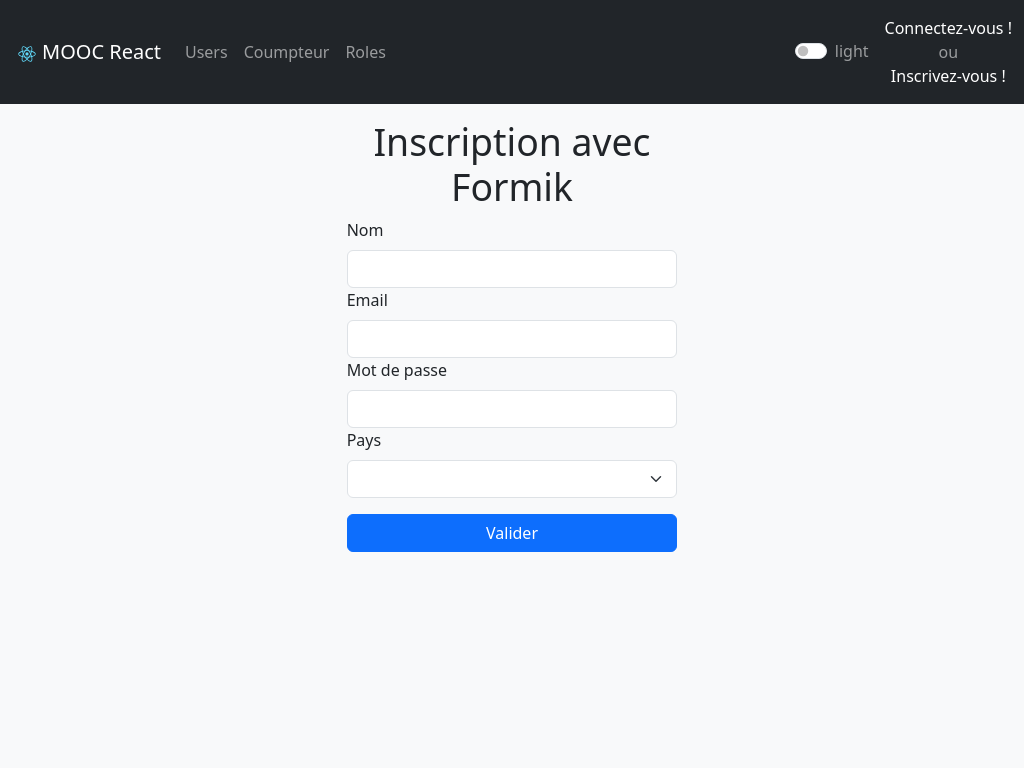
Test: Inscription › devrait afficher une erreur si email invalide
The image size is (1024, 768).
Type "TestName" into the field with id "name" at (513, 269), box [347,250,678,288]
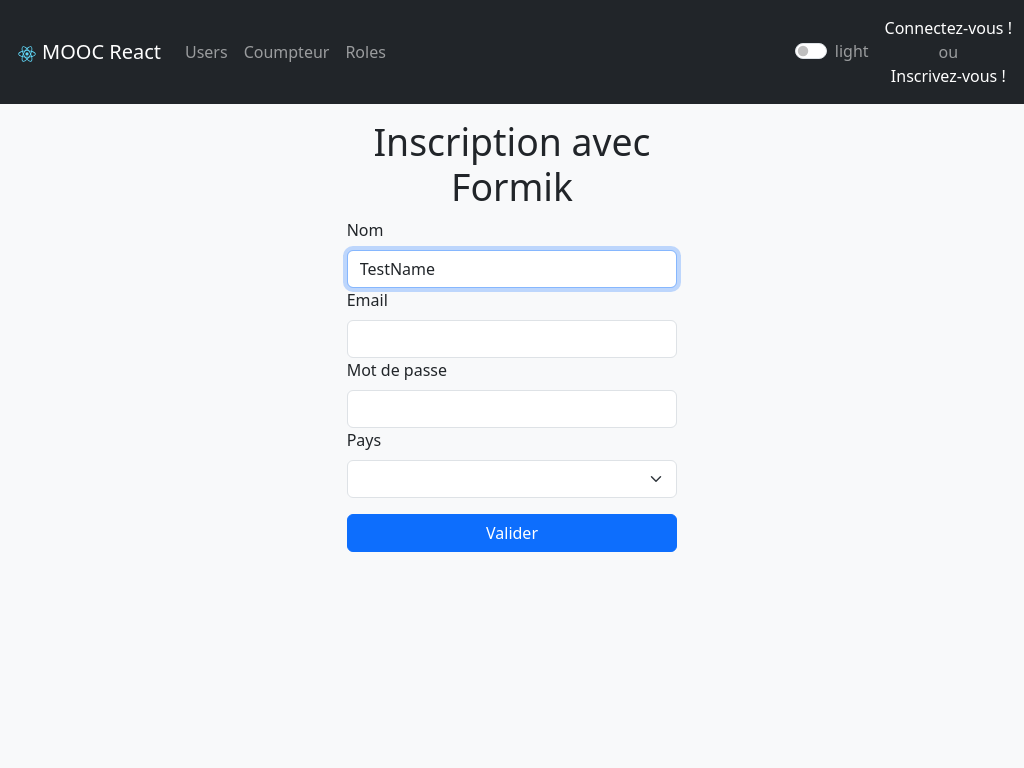
Type "test" into the field with id "email" at (513, 339), box [347,320,678,358]
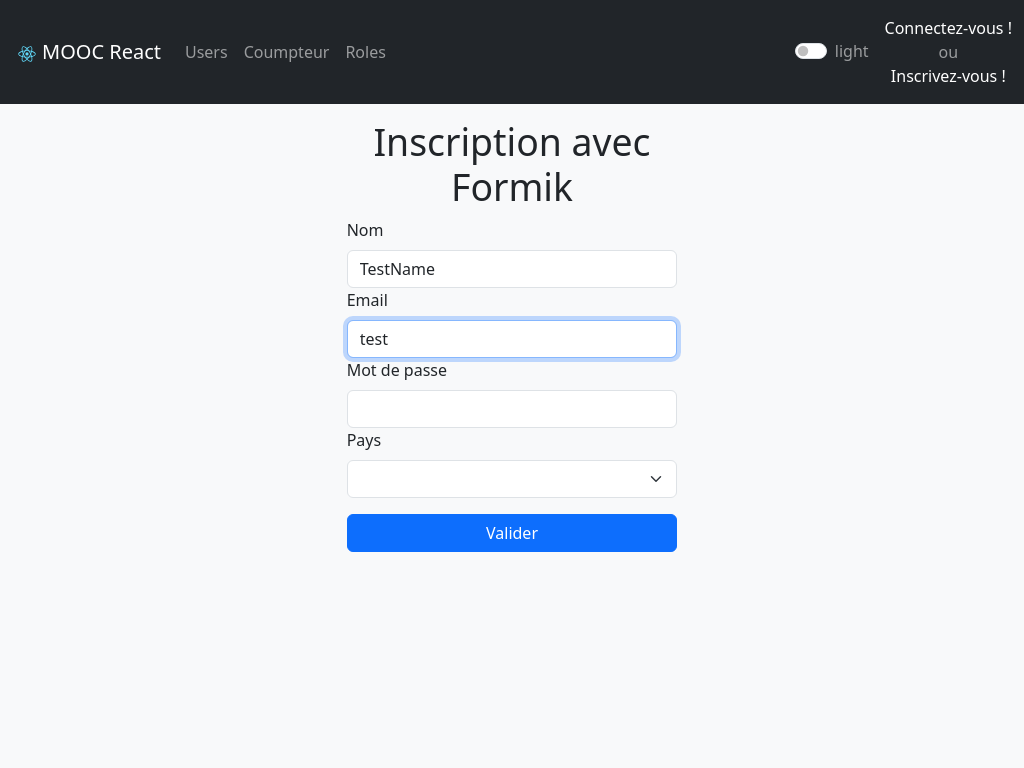
Click the submit button at (513, 533), box [347,514,678,552]
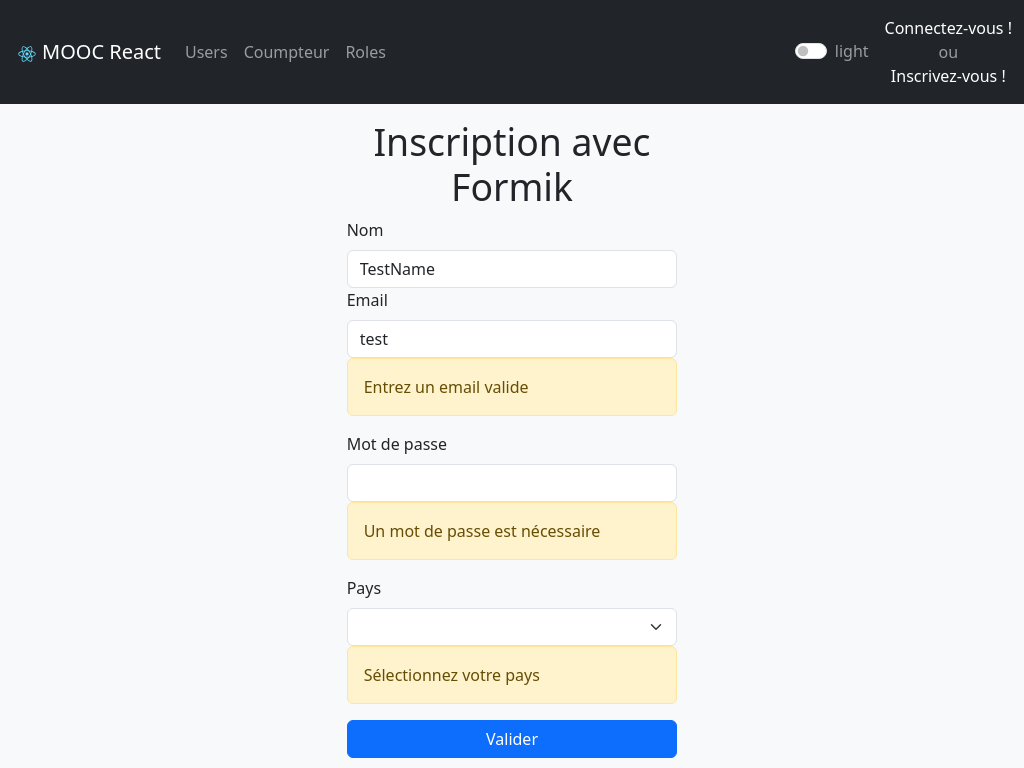
Expected: the text with class "alert-warning" reads "Entrez un email valide", [347,358,678,416]
